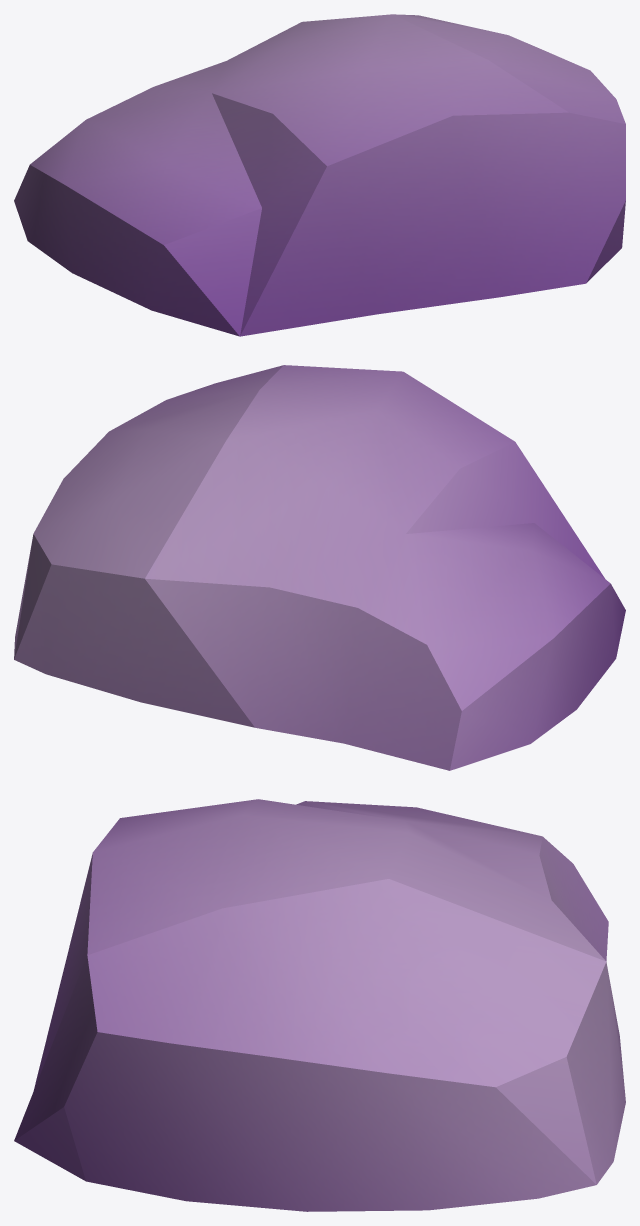
Rendered from Night_Stone_003.FBX.
3 renders of one model, top to bottom at view 1: azimuth 30°, elevation 25°; view 2: azimuth 150°, elevation 25°; view 3: azimuth 270°, elevation 25°, orthographic. The views are drawn at different scales.
Visible parts, largest first — view 1: Night_Stone_003; view 2: Night_Stone_003; view 3: Night_Stone_003.
Boxes of the visible parts, left/top/right/bottom form: Night_Stone_003: left=14, top=14, right=625, bottom=336; Night_Stone_003: left=14, top=365, right=625, bottom=770; Night_Stone_003: left=14, top=799, right=625, bottom=1211.
Bounding box in the file's own units: 215 × 77.3 × 179.
1 material, 1 textured.
